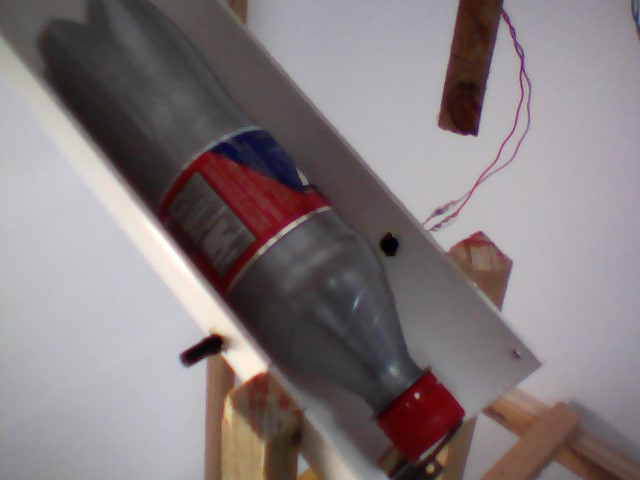plastico: (44, 1, 472, 463)
